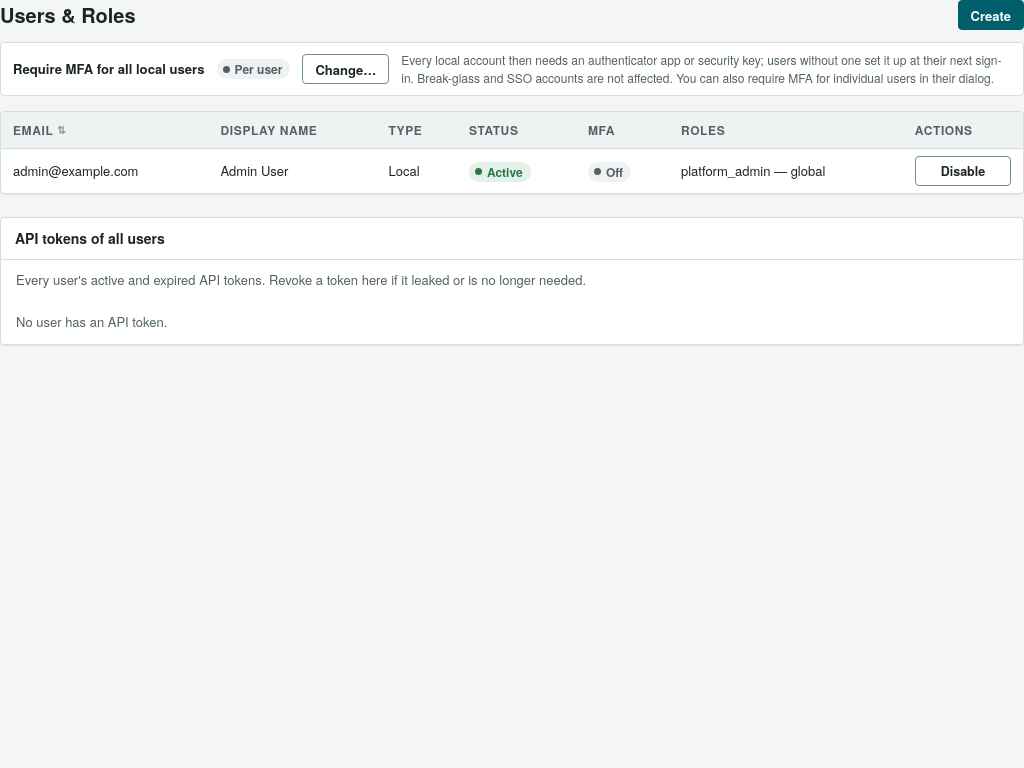
Test case: UsersPage — set password › allows Reset MFA when only recovery codes or an unconfirmed app exist
The image size is (1024, 768).
Click the text "admin@example.com". click: (105, 171)
box: left=1, top=148, right=209, bottom=193
(page scrolled)
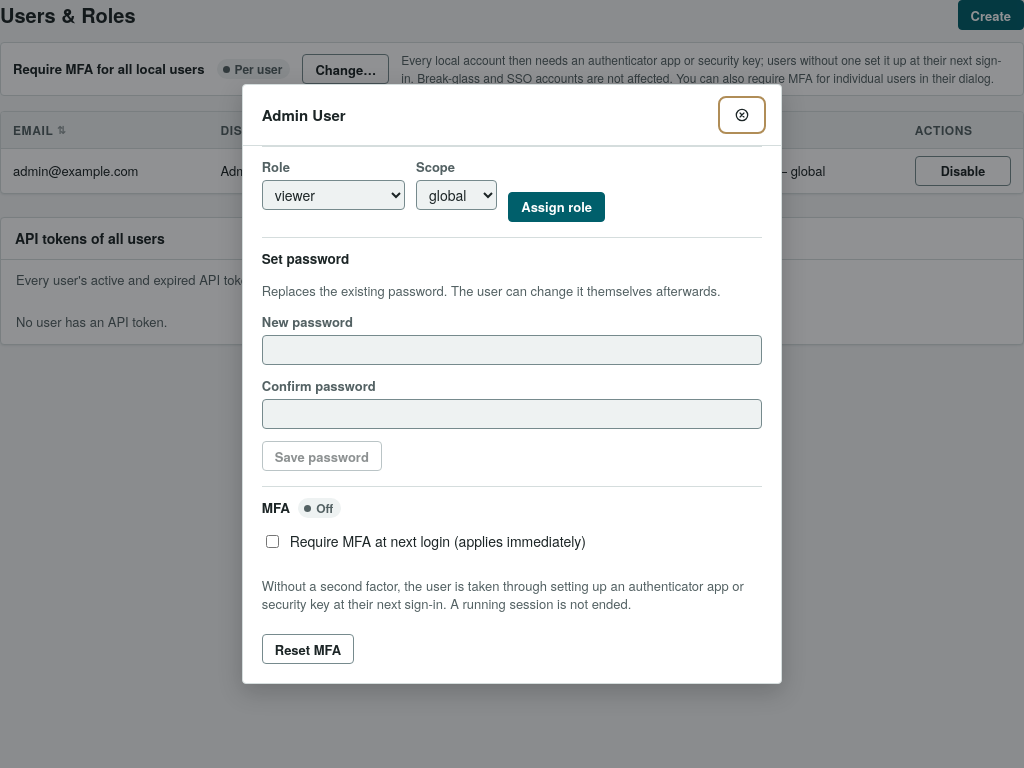
expect the button "Reset MFA" is enabled: met, box left=262, top=634, right=354, bottom=664
